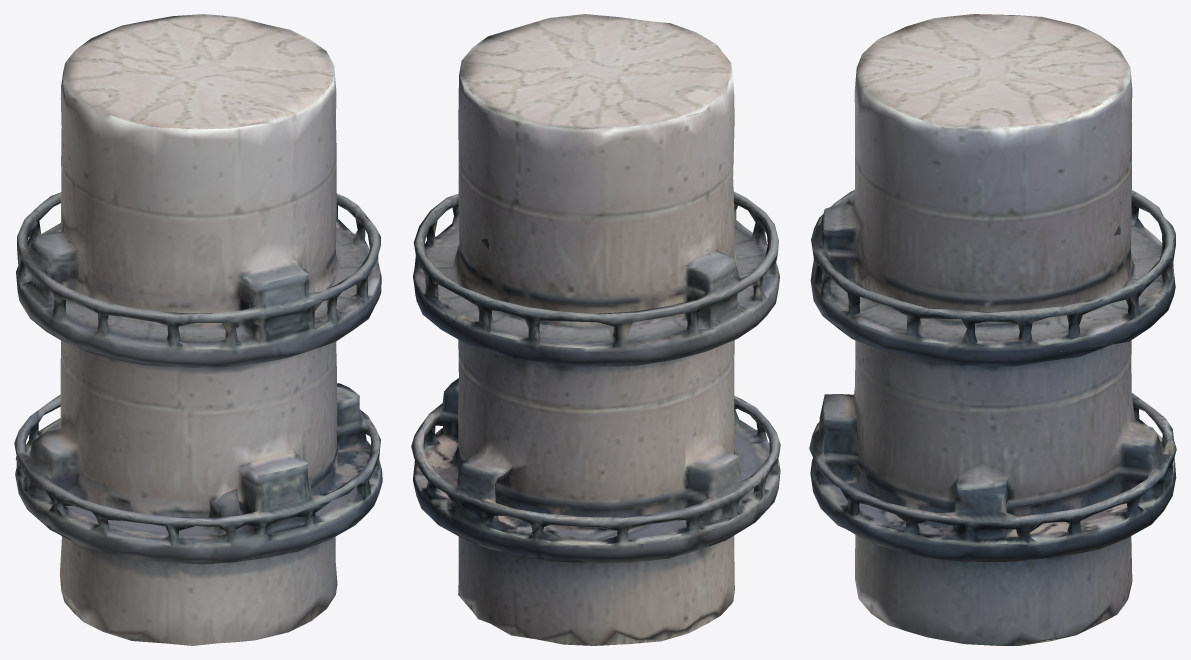
Rendered from 남산_철제받침기둥.glb.
3 renders of one model, left to right at view 1: azimuth 30°, elevation 25°; view 2: azimuth 150°, elevation 25°; view 3: azimuth 270°, elevation 25°, orthographic.
Visible parts, largest first — view 1: texture_mapping; view 2: texture_mapping; view 3: texture_mapping.
Boxes of the visible parts, x1=… form: texture_mapping: x1=14, y1=14, x2=382, y2=645; texture_mapping: x1=411, y1=14, x2=780, y2=645; texture_mapping: x1=809, y1=14, x2=1176, y2=645.
Bounding box in the file's own units: 0.64 × 1 × 0.6418.
Materials: 1 (1 with a texture image).
